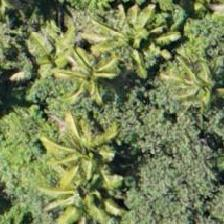coconut_tree: (46, 37, 136, 127), (43, 27, 133, 117), (39, 102, 129, 192), (88, 0, 178, 81), (39, 152, 129, 223), (157, 46, 223, 136), (7, 166, 97, 223), (150, 0, 223, 56)
